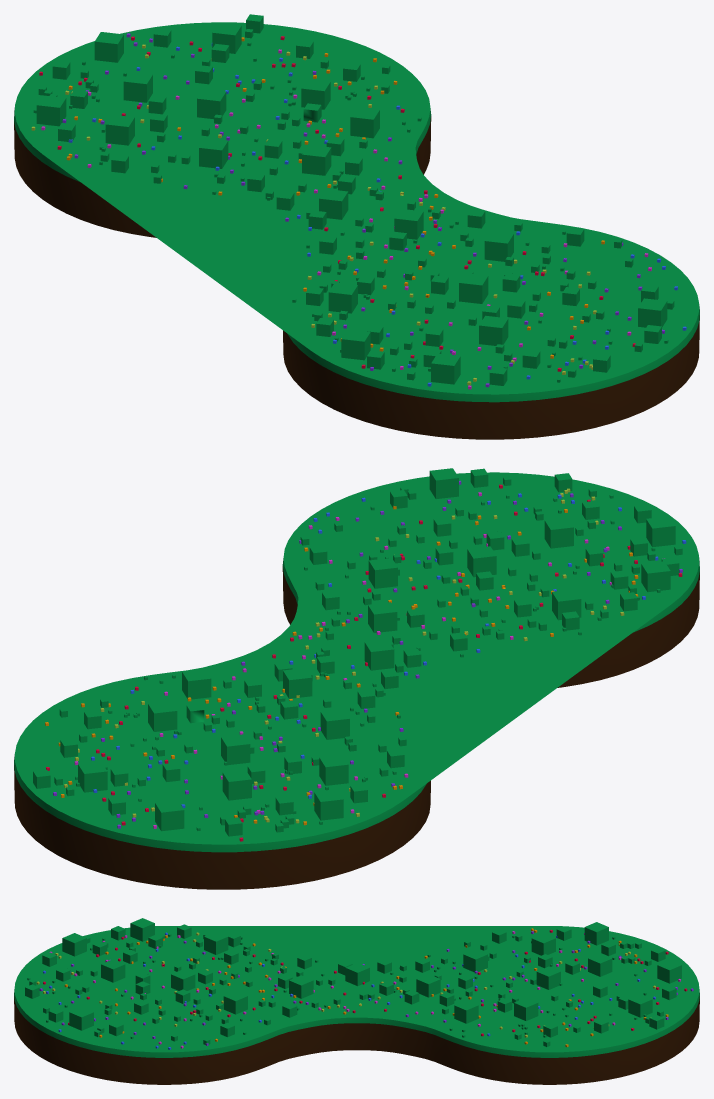
The model's file is Maket (2).fbx.
3 views of the same model, one above another, from view 1: azimuth 30°, elevation 25°; view 2: azimuth 150°, elevation 25°; view 3: azimuth 270°, elevation 25° (orthographic). The views are drawn at different scales.
Visible parts, largest first — view 1: On.002, On.004, On.001; view 2: On.002, On.004, On.001; view 3: On.002, On.004, On.001.
Boxes of the visible parts, x1=… form: On.002: x1=14, y1=22, x2=699, y2=439; On.004: x1=33, y1=14, x2=674, y2=385; On.001: x1=31, y1=33, x2=686, y2=389; On.002: x1=14, y1=472, x2=699, y2=889; On.004: x1=33, y1=468, x2=682, y2=836; On.001: x1=45, y1=480, x2=686, y2=841; On.002: x1=14, y1=926, x2=699, y2=1084; On.004: x1=25, y1=918, x2=681, y2=1046; On.001: x1=36, y1=928, x2=693, y2=1049.
Size of the model in its own units: 19.23 by 3.23 by 43.87.
